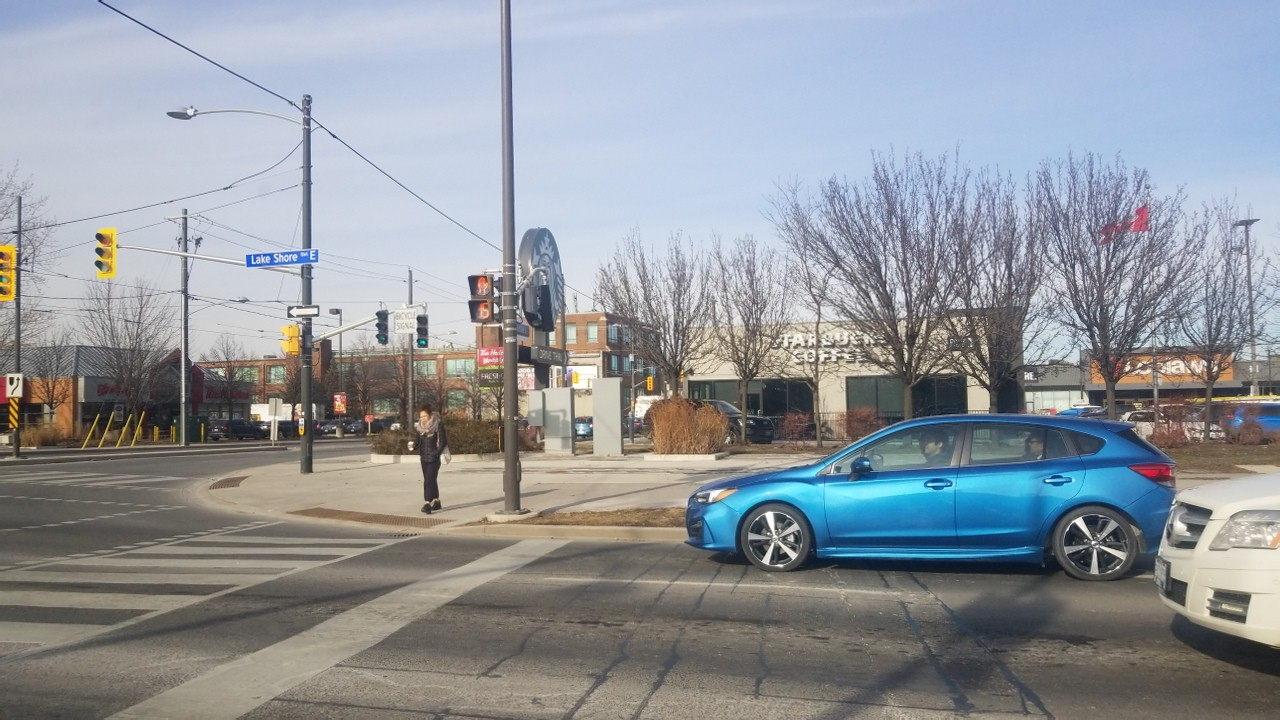light: (465, 271, 497, 323)
